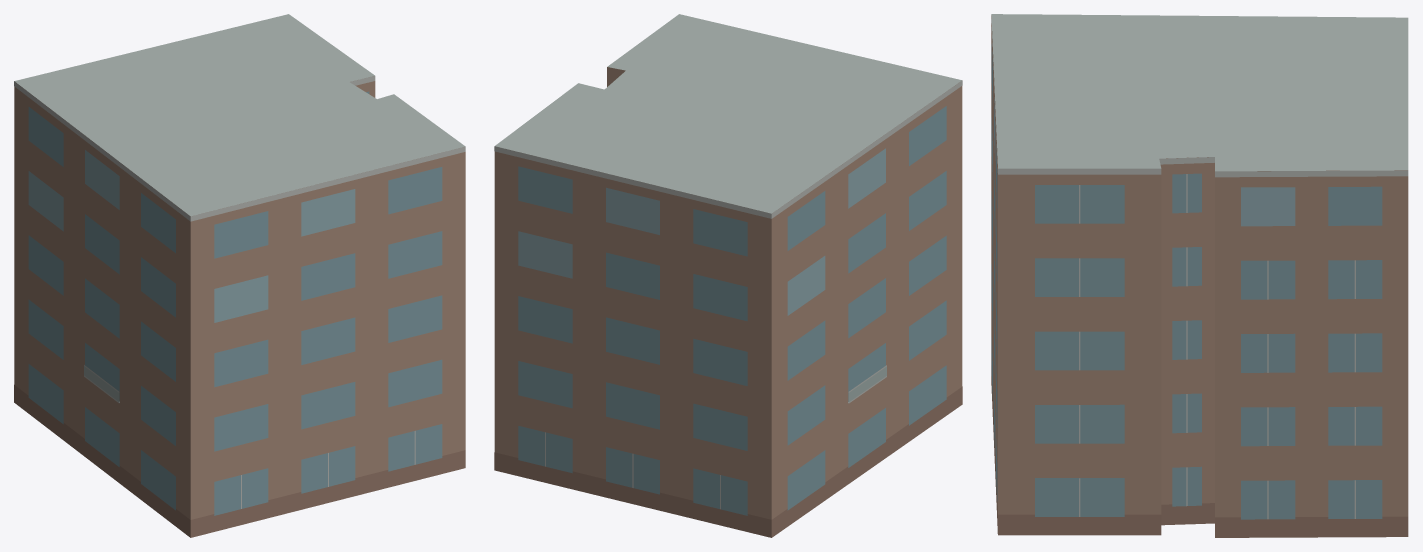
The model's file is survey-upis-32911031.glb.
3 views of the same model, side by side, from view 1: azimuth 30°, elevation 25°; view 2: azimuth 150°, elevation 25°; view 3: azimuth 270°, elevation 25° (orthographic). The views are drawn at different scales.
Visible parts, largest first — view 1: survey-upis-32911031.tmp; view 2: survey-upis-32911031.tmp; view 3: survey-upis-32911031.tmp.
Part boxes in pixels (bbox=[...]): survey-upis-32911031.tmp: bbox=[14, 14, 465, 537]; survey-upis-32911031.tmp: bbox=[494, 14, 962, 537]; survey-upis-32911031.tmp: bbox=[991, 14, 1408, 537].
Size of the model in its own units: 13.86 by 15.05 by 15.53.
